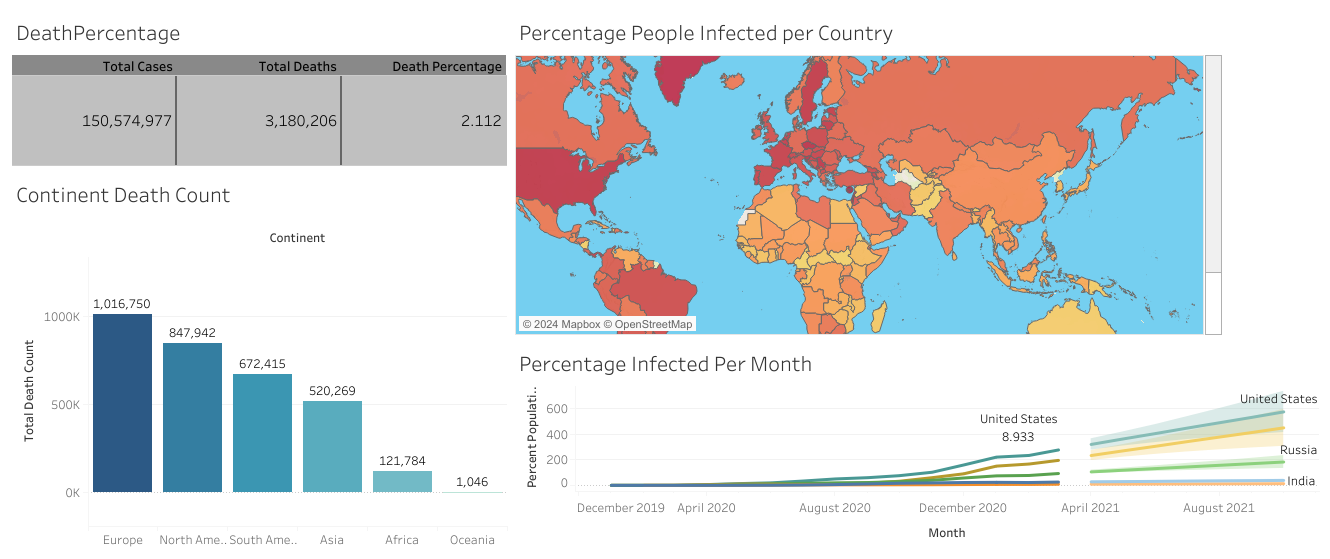

Layout of this report page (visuals, bound fields, positions):
{"tool":"tableau","page":{"name":"Dashboard 1","canvas":[1000,1000],"units":"permille","ordinal":0},"visuals":[{"type":"worksheet","title":"Sheet 1","mark":"Automatic","box":[6.9,13.5,376.9,290.5]},{"type":"worksheet","title":"Sheet 3","mark":"Multipolygon","box":[383.8,13.5,609.3,592.9]},{"type":"worksheet","title":"Sheet 2","mark":"Automatic","rows":["TotalDeathCount"],"cols":["location"],"box":[6.9,304,376.9,682.5]},{"type":"worksheet","title":"Sheet 4","mark":"Automatic","rows":["PercentPopulationInfected"],"cols":["date"],"box":[383.8,606.4,609.3,380.1]}]}

Visuals, with their boxes on the dashboard's canvas, which has no fixed pixel size, in thousandths of its width and height (x1, y1, x2, y2). These are canvas units, not pixel positions in the 1330x559 screenshot, which may show the page scaled, cropped or inside an application window:
"Sheet 1" worksheet: x1=7, y1=14, x2=384, y2=304
"Sheet 3" worksheet (Multipolygon marks): x1=384, y1=14, x2=993, y2=606
"Sheet 2" worksheet: x1=7, y1=304, x2=384, y2=986
"Sheet 4" worksheet: x1=384, y1=606, x2=993, y2=986
